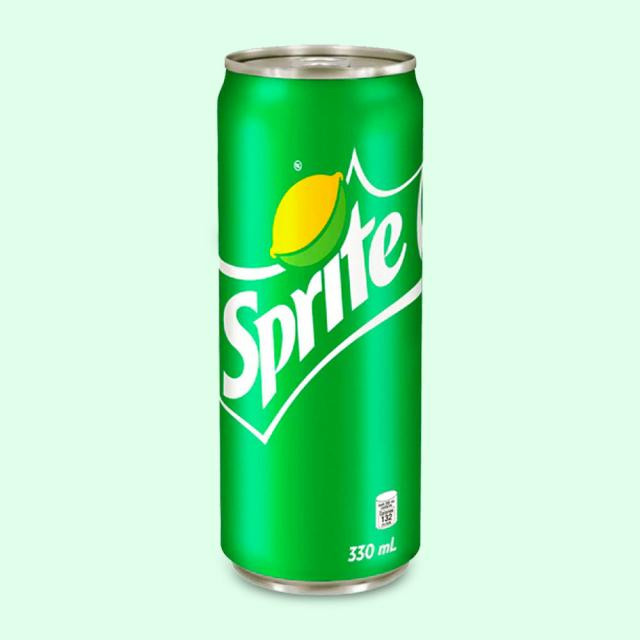sprite: (193, 25, 446, 592)
